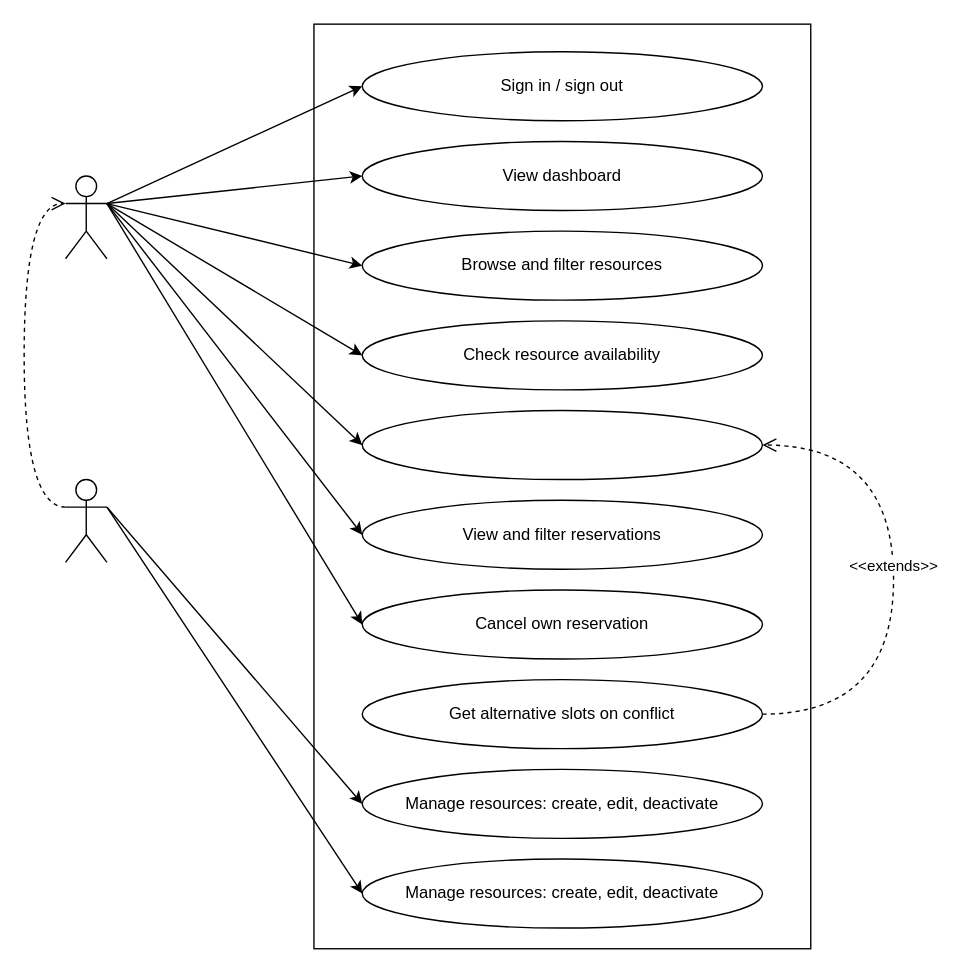
Image size: 962x973. Some labels were removed from this diagram. The centre of each missing label's shape, as x and y in pixels:
Administrator: (x=85, y=520)
Create reservation: (x=561, y=444)
Member: (x=85, y=217)
